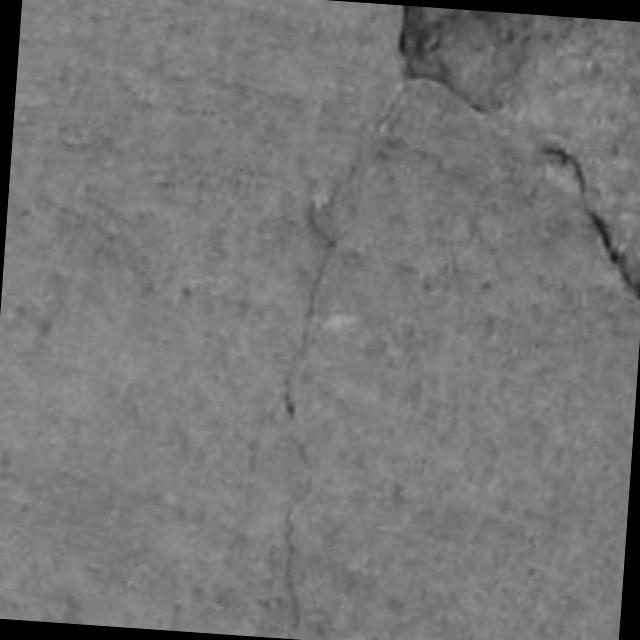crack: (283, 81, 406, 424), (397, 7, 538, 111), (543, 147, 639, 299), (587, 209, 639, 299), (284, 501, 301, 638)
